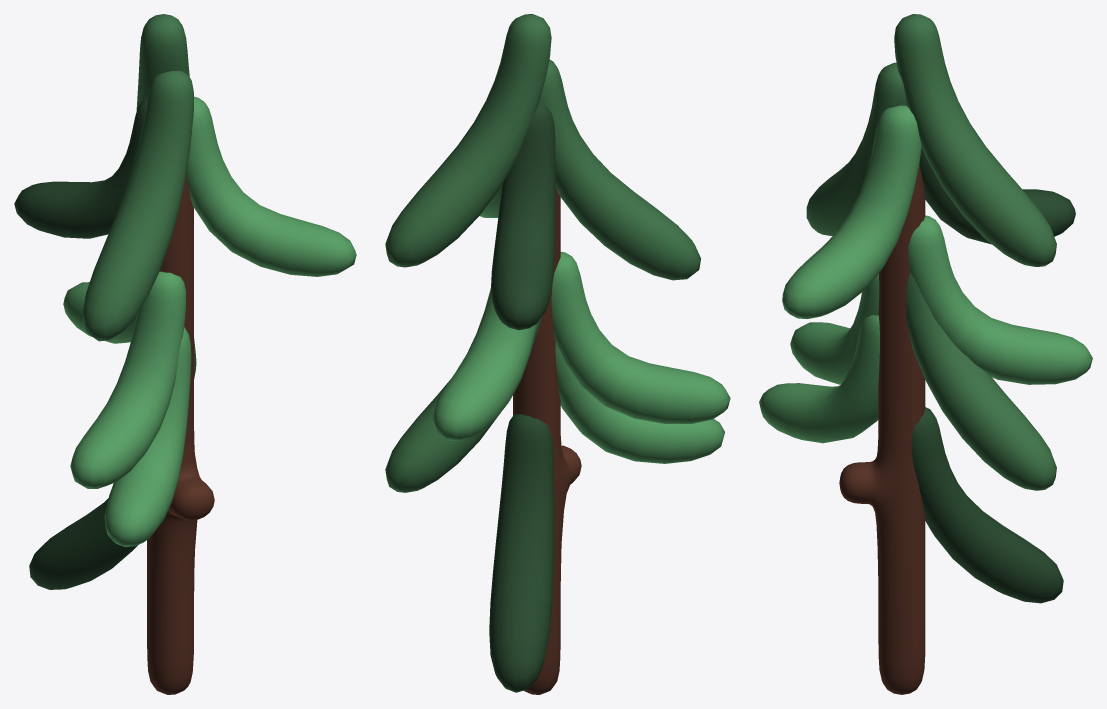
The model's file is TREE2.fbx.
The picture shows the model from 3 angles, left to right: view 1: azimuth 30°, elevation 25°; view 2: azimuth 150°, elevation 25°; view 3: azimuth 270°, elevation 25°; orthographic projection.
Parts seen in each view (by area): view 1: EVERGREEN3.003; view 2: EVERGREEN3.003; view 3: EVERGREEN3.003.
Part boxes in pixels (x1,y1,x2,y2): EVERGREEN3.003: (14,14,356,694); EVERGREEN3.003: (385,14,730,694); EVERGREEN3.003: (759,14,1092,694).
Size of the model in its own units: 367 by 853 by 381.
